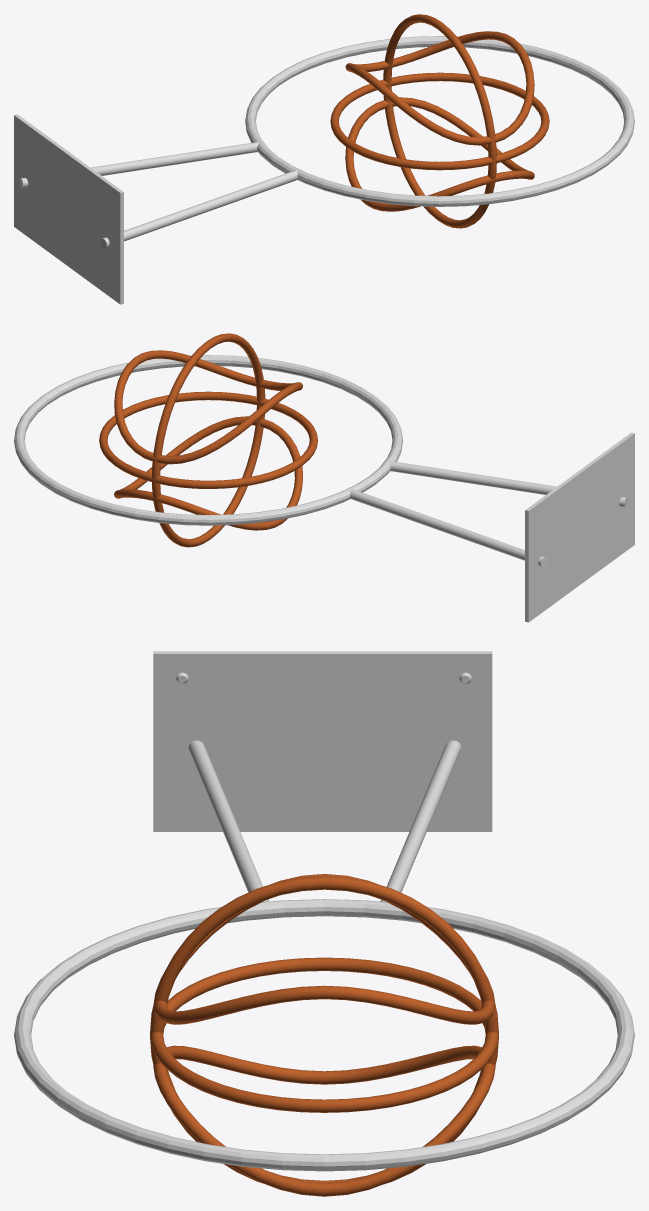
Rendered from BasketBall_Mesh.fbx.
3 renders of one model, top to bottom at view 1: azimuth 30°, elevation 25°; view 2: azimuth 150°, elevation 25°; view 3: azimuth 270°, elevation 25°, orthographic. The views are drawn at different scales.
Visible parts, largest first — view 1: Balle, SupportPlaque, Anneau, Support; view 2: Balle, SupportPlaque, Anneau, Support; view 3: SupportPlaque, Balle, Anneau, Support.
Boxes of the visible parts, x1,y1,x2,y2 form: Balle: (330,14,549,228); SupportPlaque: (14,114,123,304); Anneau: (245,36,634,206); Support: (19,142,297,248); Balle: (99,333,317,547); SupportPlaque: (525,432,634,622); Anneau: (14,355,403,525); Support: (350,461,627,567); SupportPlaque: (153,651,492,831); Balle: (150,874,498,1196); Anneau: (14,899,634,1171); Support: (188,740,461,902).
Size of the model in its own units: 599 by 208 by 370.
